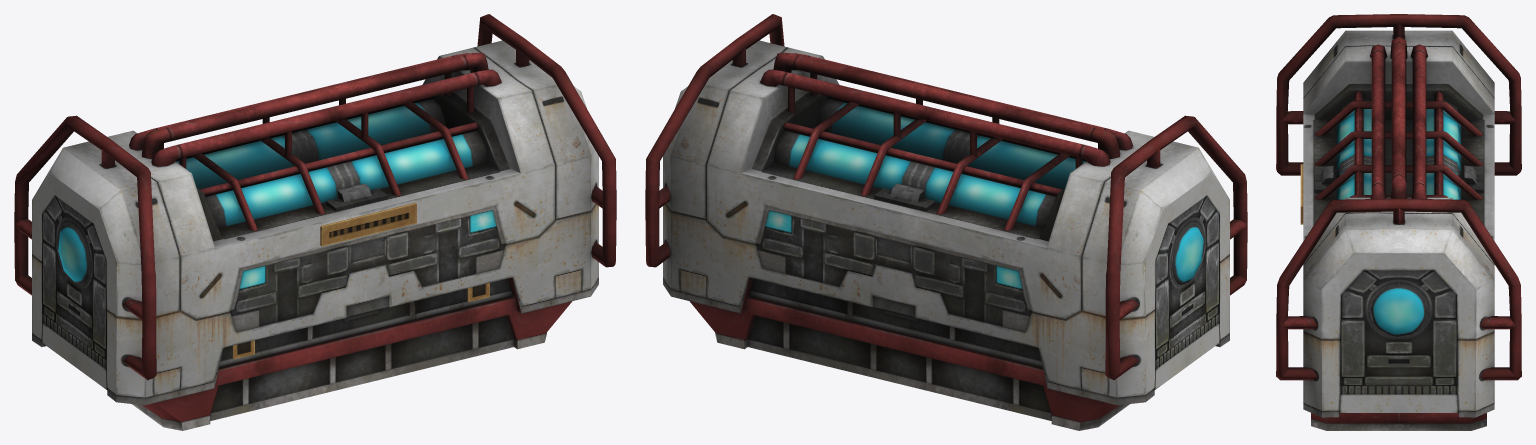
Rendered from ark_old.dae.
The picture shows the model from 3 angles, left to right: view 1: azimuth 30°, elevation 25°; view 2: azimuth 150°, elevation 25°; view 3: azimuth 270°, elevation 25°; orthographic projection. The views are drawn at different scales.
Parts seen in each view (by area): view 1: Ark_full_polymsh; view 2: Ark_full_polymsh; view 3: Ark_full_polymsh.
Boxes of the visible parts, box(x1,y1,x2,y2) form: Ark_full_polymsh: box(14, 14, 616, 430); Ark_full_polymsh: box(645, 14, 1247, 430); Ark_full_polymsh: box(1276, 14, 1521, 430).
Bounding box in the file's own units: 204 × 104 × 96.79.
